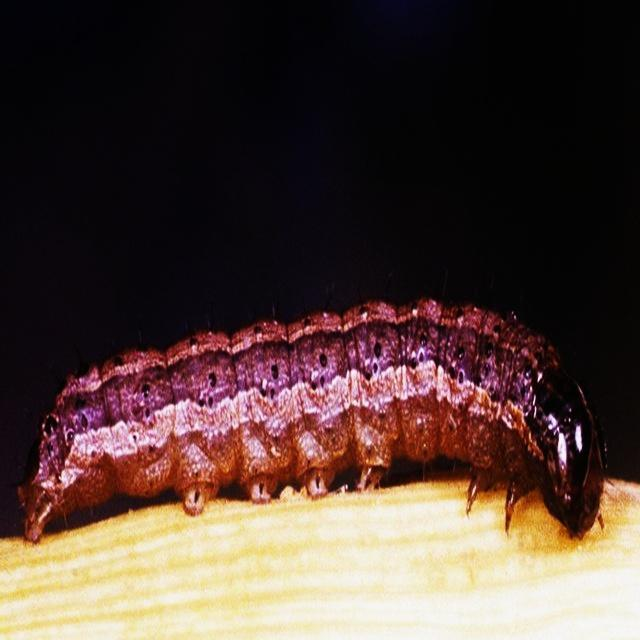gusano_cogollero: (17, 289, 616, 546)
